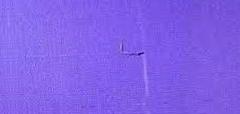snag: (117, 38, 148, 61)
